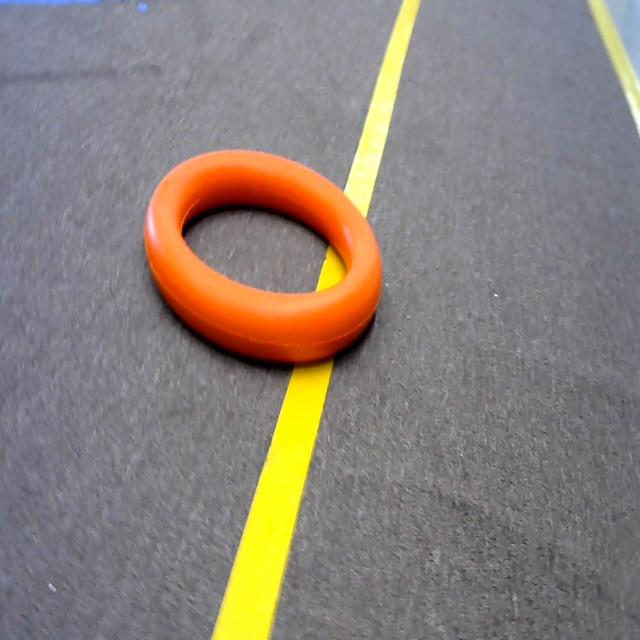note: (130, 120, 396, 383)
